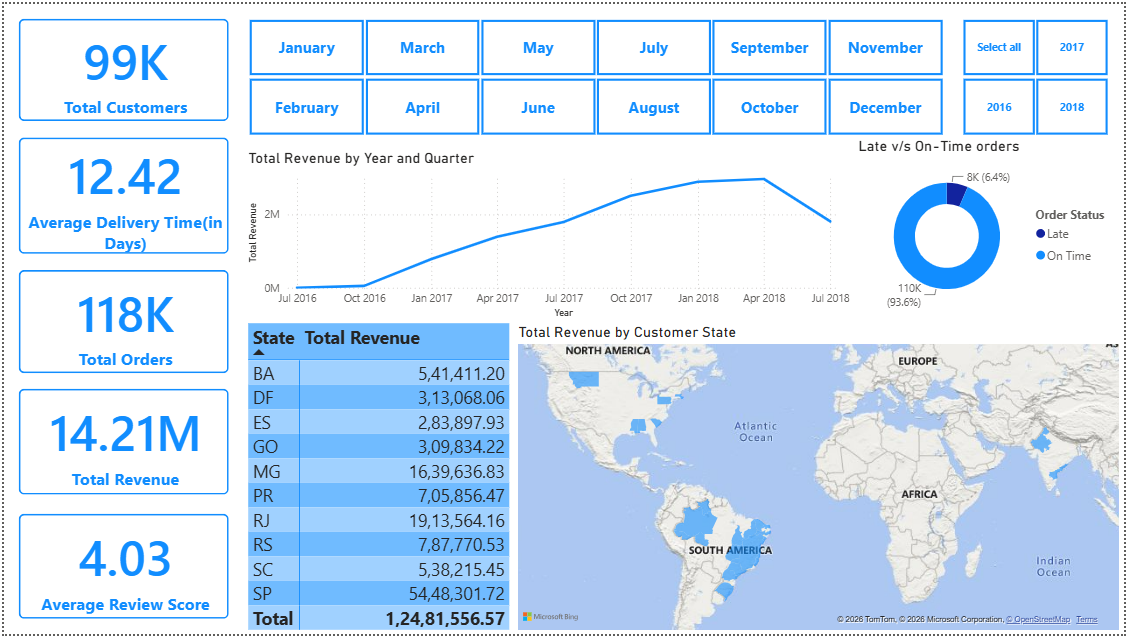

The page's visual inventory and layout, read from the dashboard file:
{"tool":"powerbi","page":{"name":"Exective Overview","canvas":[1280,720],"ordinal":0},"visuals":[{"type":"cardVisual","fields":{"Data":["public bi_fact_sales.Total Customers"]},"box":[0,0,274.3,151.4],"z":0},{"type":"cardVisual","fields":{"Data":["public bi_fact_sales.Average Delivery Time"]},"box":[0,135.7,274.3,167.1],"z":1000},{"type":"cardVisual","fields":{"Data":["public bi_fact_sales.Total Orders"]},"box":[0,287.1,274.3,152.9],"z":2000},{"type":"cardVisual","fields":{"Data":["public bi_fact_sales.Total Revenue"]},"box":[0,422.9,274.3,155.7],"z":3000},{"type":"cardVisual","fields":{"Data":["public bi_fact_sales.Average Review Score"]},"box":[0,565.7,274.3,154.3],"z":4000},{"type":"slicer","fields":{"Values":["DimDate.Month Start.Variation.Date Hierarchy.Month"]},"box":[260,15.7,831.4,135.7],"z":5000},{"type":"slicer","fields":{"Values":["DimDate.Month Start.Variation.Date Hierarchy.Year"]},"box":[1075.7,15.7,204.3,135.7],"z":6000},{"type":"lineChart","fields":{"Y":["public bi_fact_sales.Total Revenue"],"Category":["DimDate.Month Start.Variation.Date Hierarchy.Year","DimDate.Month Start.Variation.Date Hierarchy.Quarter"]},"box":[274.3,165.7,697.1,198.6],"z":7000},{"type":"pivotTable","fields":{"Rows":["public bi_fact_sales.customer_state"],"Values":["public bi_fact_sales.Total Revenue"]},"box":[274.3,360,308.6,360],"z":8000},{"type":"donutChart","title":"Late v/s On-Time orders","fields":{"Y":["public bi_fact_sales.Total Orders"],"Series":["public bi_fact_sales.Order Status"]},"box":[971.4,151.4,308.6,208.6],"z":9000},{"type":"filledMap","fields":{"Category":["public bi_fact_sales.customer_state"]},"box":[582.9,364.3,697.1,355.7],"z":10000}]}

Visuals, with their boxes in screenshot pixels (x1, y1, x2, y2), scaled from the page's 1280x720 canvas onto the 1128x640 screenshot:
cardVisual - public bi_fact_sales.Total Customers: <bbox>0, 0, 242, 135</bbox>
cardVisual - public bi_fact_sales.Average Delivery Time: <bbox>0, 121, 242, 269</bbox>
cardVisual - public bi_fact_sales.Total Orders: <bbox>0, 255, 242, 391</bbox>
cardVisual - public bi_fact_sales.Total Revenue: <bbox>0, 376, 242, 514</bbox>
cardVisual - public bi_fact_sales.Average Review Score: <bbox>0, 503, 242, 639</bbox>
slicer - DimDate.Month Start.Variation.Date Hierarchy.Month: <bbox>229, 14, 962, 135</bbox>
slicer - DimDate.Month Start.Variation.Date Hierarchy.Year: <bbox>948, 14, 1127, 135</bbox>
lineChart - public bi_fact_sales.Total Revenue x DimDate.Month Start.Variation.Date Hierarchy.Year: <bbox>242, 147, 856, 324</bbox>
pivotTable - public bi_fact_sales.customer_state x public bi_fact_sales.Total Revenue: <bbox>242, 320, 514, 639</bbox>
"Late v/s On-Time orders" donutChart: <bbox>856, 135, 1127, 320</bbox>
filledMap - public bi_fact_sales.customer_state: <bbox>514, 324, 1127, 639</bbox>
